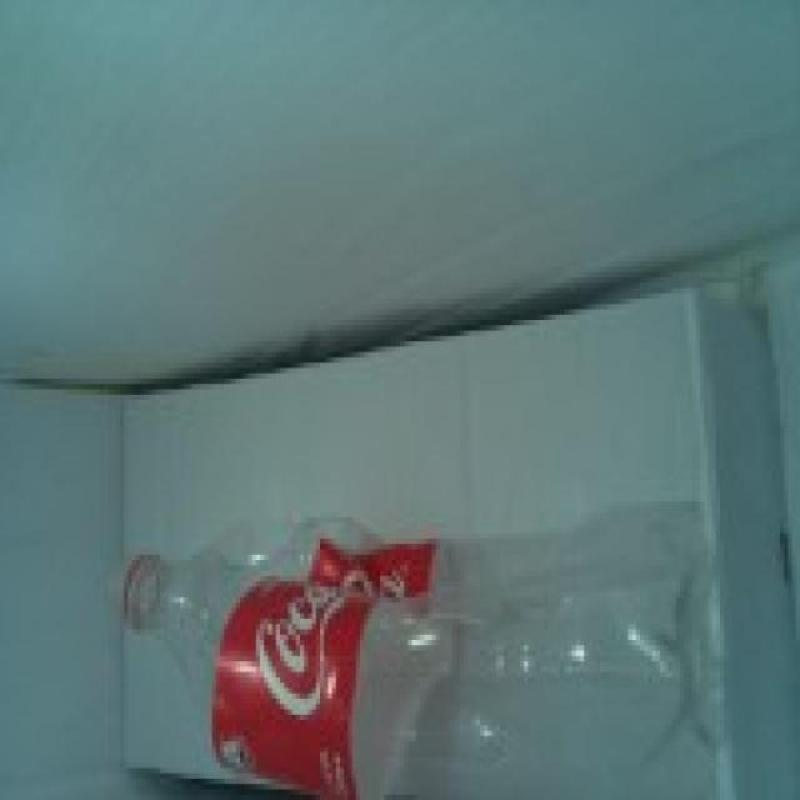botella: (121, 519, 712, 800)
